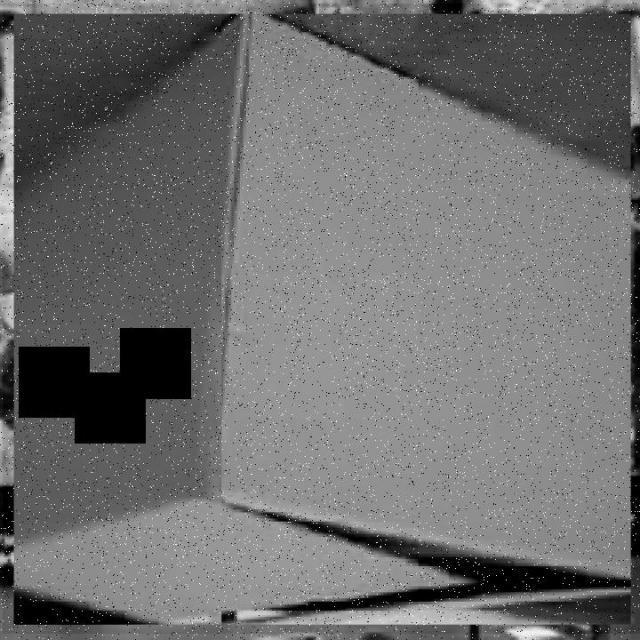box: (3, 4, 640, 634)
